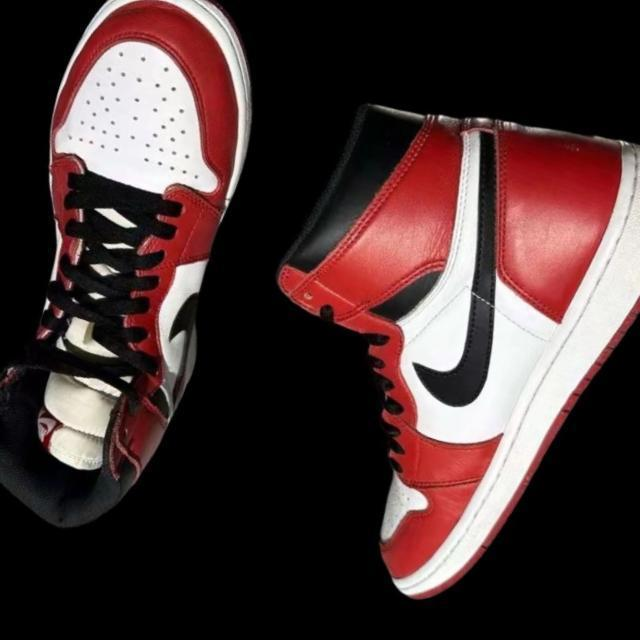nike original jordan 1: (196, 40, 640, 640), (0, 0, 312, 551)
